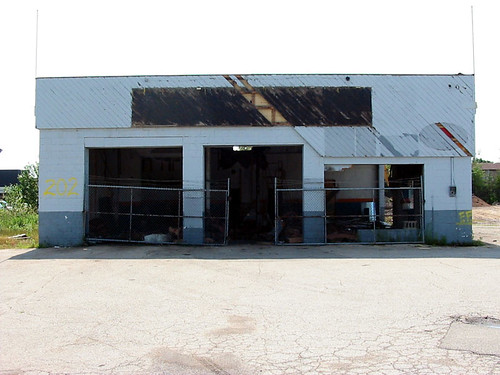building: (34, 79, 474, 244)
sky: (7, 1, 500, 77)
